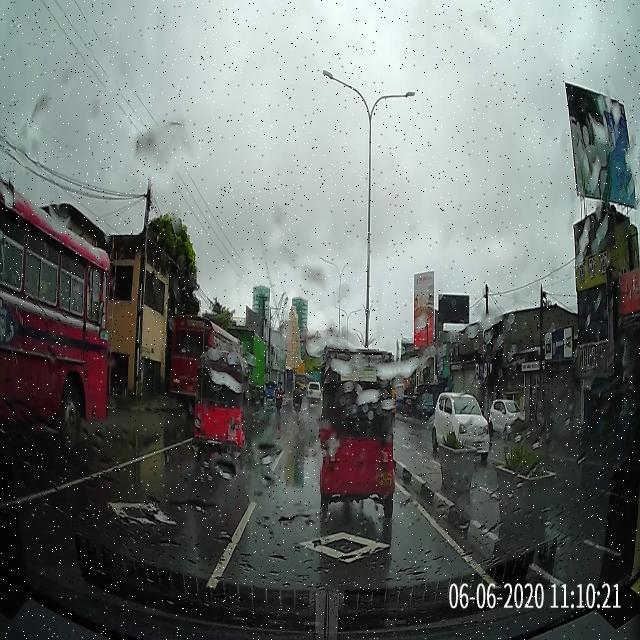diamond: (216, 519, 484, 570)
